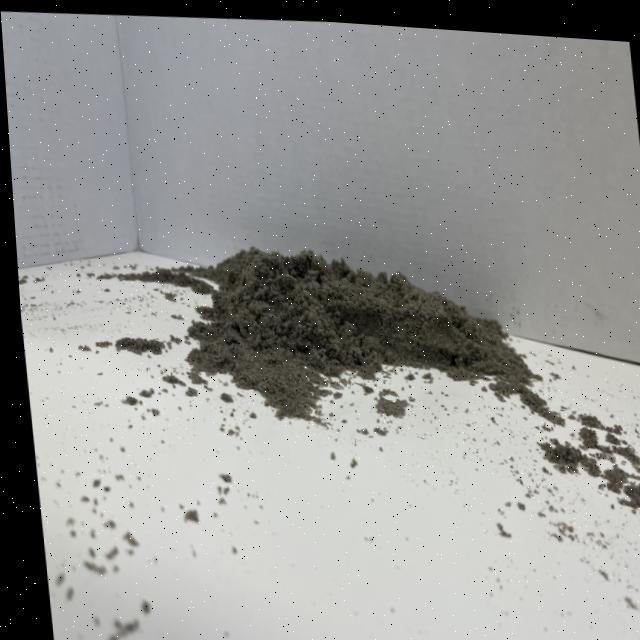sand: (145, 209, 564, 446)
